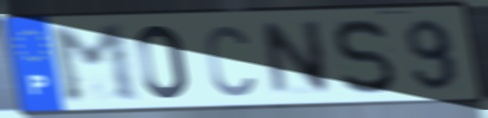0: (134, 23, 190, 103)
9: (403, 16, 462, 93)
C: (203, 22, 258, 99)
M: (44, 22, 144, 106)
N: (259, 18, 334, 99)
S: (332, 17, 398, 97)
